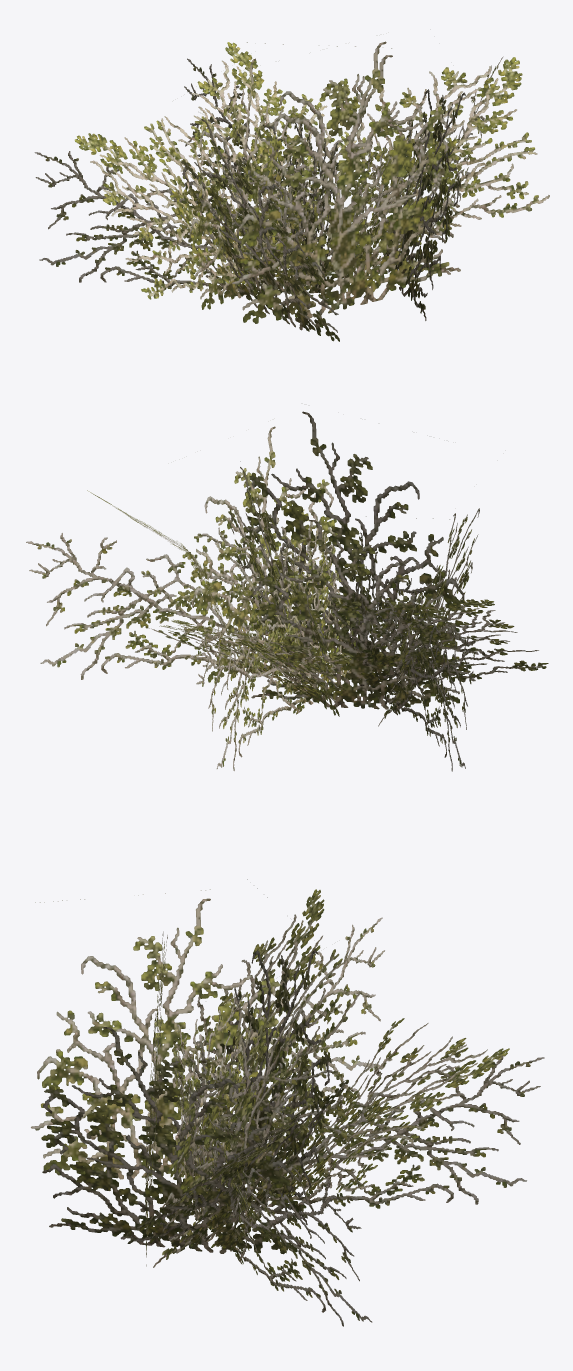
The model's file is OZ_02_hd_Cgrass01A.glb.
3 views of the same model, one above another, from view 1: azimuth 30°, elevation 25°; view 2: azimuth 150°, elevation 25°; view 3: azimuth 270°, elevation 25° (orthographic). The views are drawn at different scales.
Parts seen in each view (by area): view 1: OM_02_hd_Cgrass01A; view 2: OM_02_hd_Cgrass01A; view 3: OM_02_hd_Cgrass01A.
Part boxes in pixels (x1,y1,x2,y2): OM_02_hd_Cgrass01A: (34, 41, 549, 341); OM_02_hd_Cgrass01A: (26, 411, 548, 771); OM_02_hd_Cgrass01A: (31, 879, 544, 1326).
Size of the model in its own units: 9.45 by 4.97 by 7.72.
Materials: 1 (1 with a texture image).
